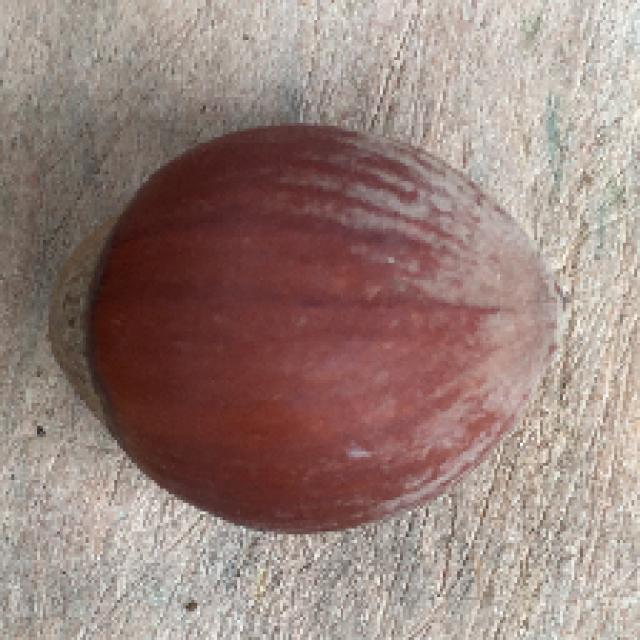qualityHazelnut: (45, 118, 568, 539)
